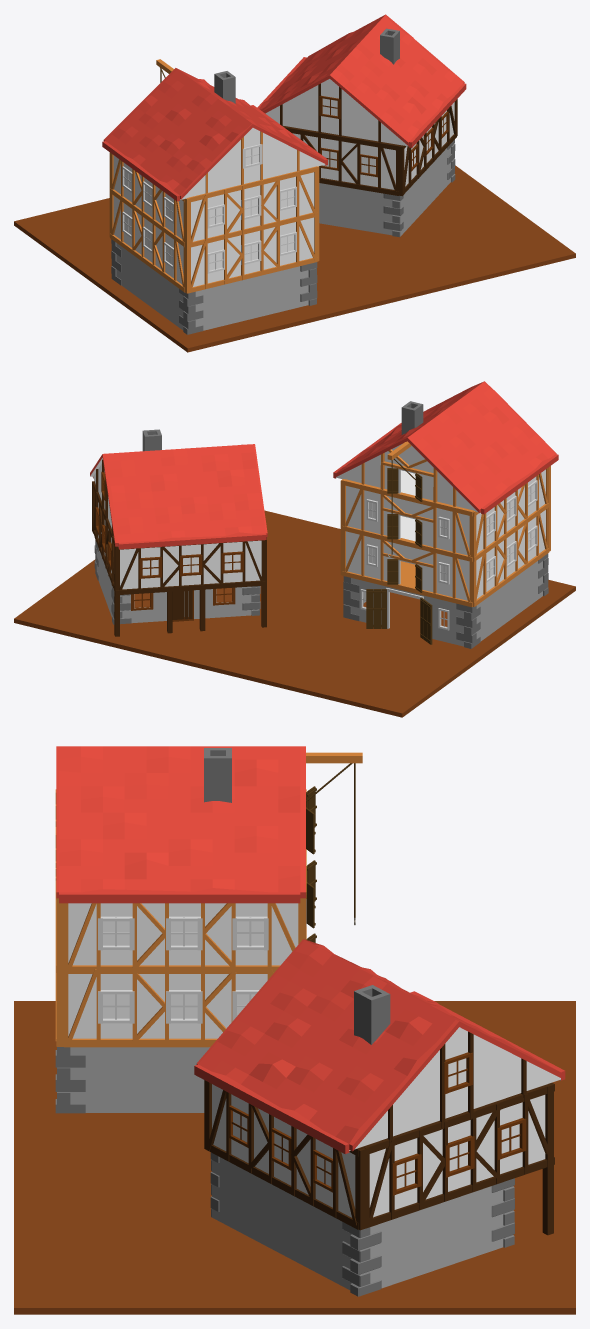
File: WarehouseAge3.fbx
3 renders of one model, top to bottom at view 1: azimuth 30°, elevation 25°; view 2: azimuth 150°, elevation 25°; view 3: azimuth 270°, elevation 25°, orthographic. The views are drawn at different scales.
Visible parts, largest first — view 1: Cylinder.563, Cube, Cube.674, Cube.880, Cube.833, Cube.729, Cylinder.260, Cylinder.437, Cylinder.438, Cube.675, Cylinder.453, Cylinder.452 (+1 smaller); view 2: Cube, Cylinder.563, Cube.674, Cube.833, Cube.880, Cube.759, Cylinder.341, Cylinder.475, Cylinder.476, Cube.743, Cube.758, Cylinder.452 (+1 smaller); view 3: Cube, Cylinder.563, Cube.674, Cube.880, Cube.833, Cube.675, Cylinder.468, Cube.745, Cube.744, Cube.743, Cylinder.467, Cube.713 (+1 smaller).
Boxes of the visible parts, <box> form: Cylinder.563: <box>102,68,327,330</box>; Cube: <box>14,165,575,352</box>; Cube.674: <box>257,14,466,147</box>; Cube.880: <box>319,147,450,236</box>; Cube.833: <box>292,102,454,189</box>; Cube.729: <box>283,126,399,150</box>; Cylinder.260: <box>187,166,317,201</box>; Cylinder.437: <box>189,257,317,293</box>; Cylinder.438: <box>191,212,317,247</box>; Cube.675: <box>380,28,399,64</box>; Cylinder.453: <box>110,188,184,247</box>; Cylinder.452: <box>110,233,184,292</box>; Cube: <box>14,510,575,717</box>; Cylinder.563: <box>333,381,558,646</box>; Cube.674: <box>90,444,267,549</box>; Cube.833: <box>98,502,261,589</box>; Cube.880: <box>97,548,258,623</box>; Cube.759: <box>117,580,265,595</box>; Cylinder.341: <box>342,479,473,516</box>; Cylinder.475: <box>342,571,472,607</box>; Cylinder.476: <box>342,526,472,561</box>; Cube.743: <box>114,543,119,636</box>; Cube.758: <box>261,537,266,627</box>; Cylinder.452: <box>474,548,549,606</box>; Cube: <box>14,1001,575,1314</box>; Cylinder.563: <box>56,746,316,1112</box>; Cube.674: <box>194,939,565,1153</box>; Cube.880: <box>212,1157,512,1289</box>; Cube.833: <box>212,1084,545,1217</box>; Cube.675: <box>354,985,390,1044</box>; Cylinder.468: <box>68,965,280,973</box>; Cube.745: <box>363,1082,554,1153</box>; Cube.744: <box>369,1157,554,1227</box>; Cube.743: <box>542,1083,553,1235</box>; Cylinder.467: <box>64,1038,217,1047</box>; Cube.713: <box>209,1144,358,1229</box>.
Bounding box in the file's own units: 911 × 463 × 705.
